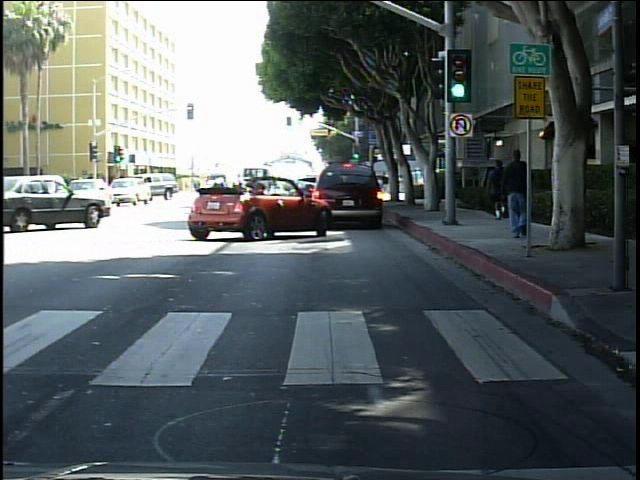person: (500, 141, 530, 239), (489, 157, 511, 222), (412, 165, 425, 186)
